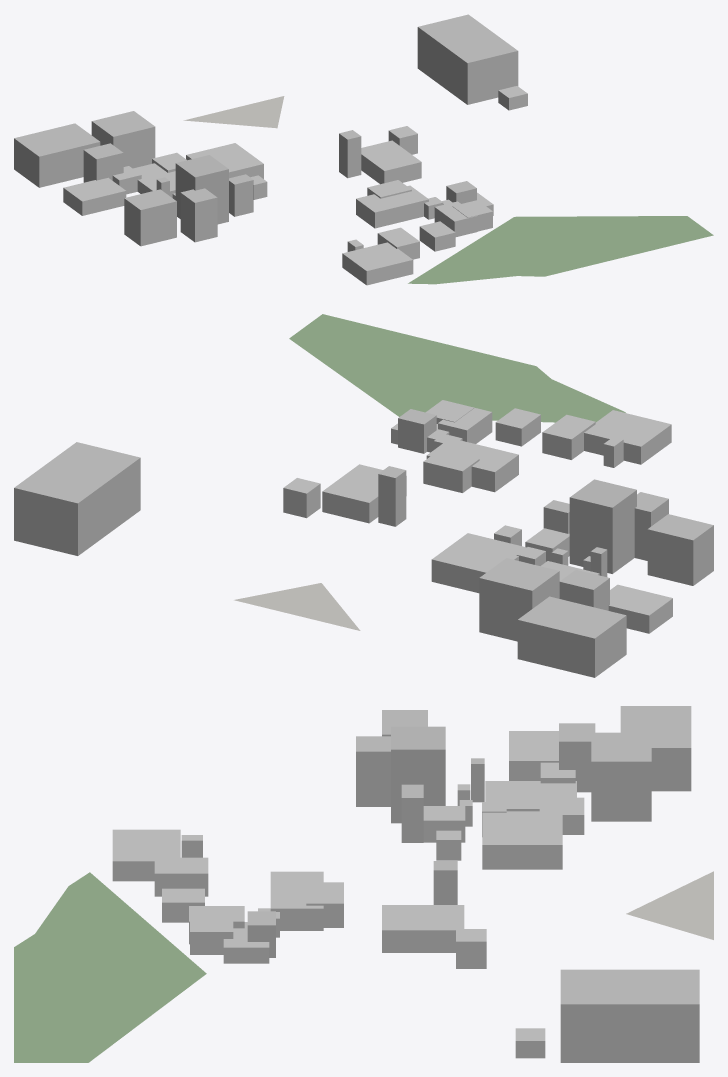
Rendered from 112_115_mid.glb.
3 renders of one model, top to bottom at view 1: azimuth 30°, elevation 25°; view 2: azimuth 150°, elevation 25°; view 3: azimuth 270°, elevation 25°, orthographic. The views are drawn at different scales.
Size of the model in its own units: 528 by 58.63 by 500.
